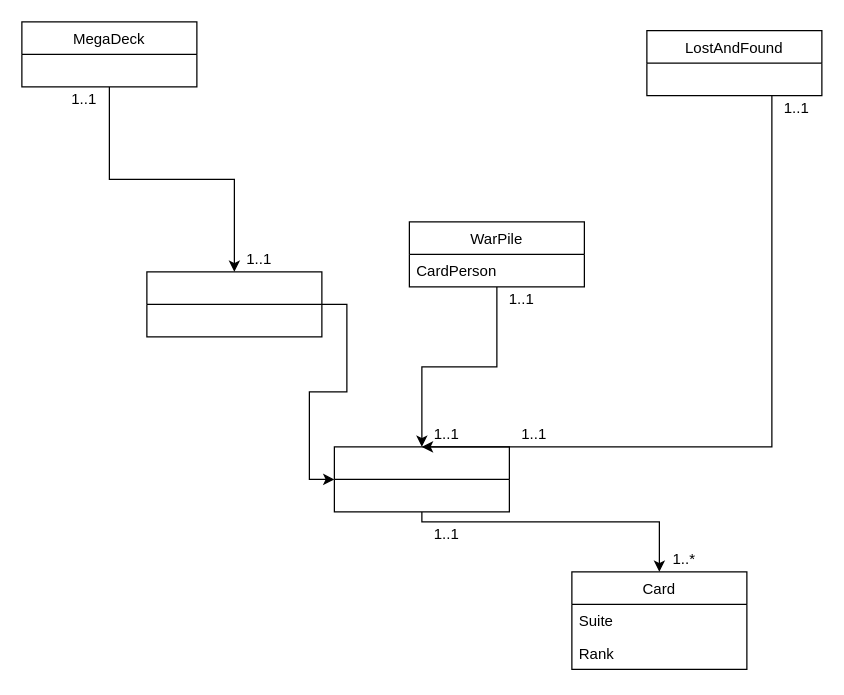
Image size: 844x695. Some labels were removed from this diagram. The centre of each missing label's shape, as x and y in pixels:
CardPile: point (421, 479)
Deck: point (234, 304)
